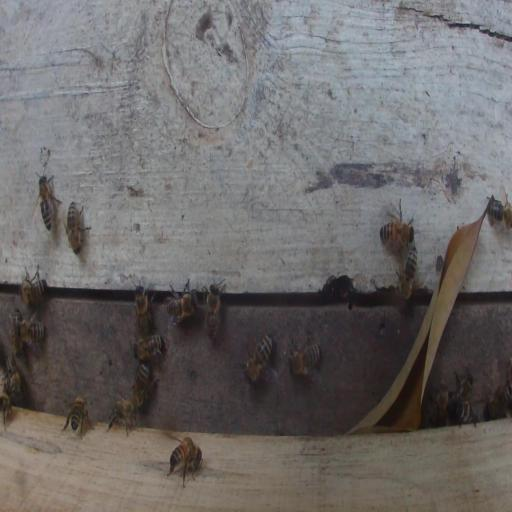bee: (379, 197, 415, 253), (167, 436, 202, 487), (33, 173, 62, 234), (243, 332, 274, 385), (64, 200, 93, 256), (10, 310, 45, 355), (61, 395, 93, 439), (205, 278, 226, 344), (166, 278, 195, 325), (20, 263, 47, 309), (289, 339, 321, 377), (396, 248, 418, 302), (106, 398, 137, 436), (449, 375, 472, 417), (134, 276, 151, 332), (485, 384, 511, 419), (131, 362, 150, 408), (4, 356, 23, 402), (134, 334, 165, 362), (430, 381, 449, 426), (487, 199, 511, 227), (459, 399, 477, 426), (0, 392, 13, 429)
